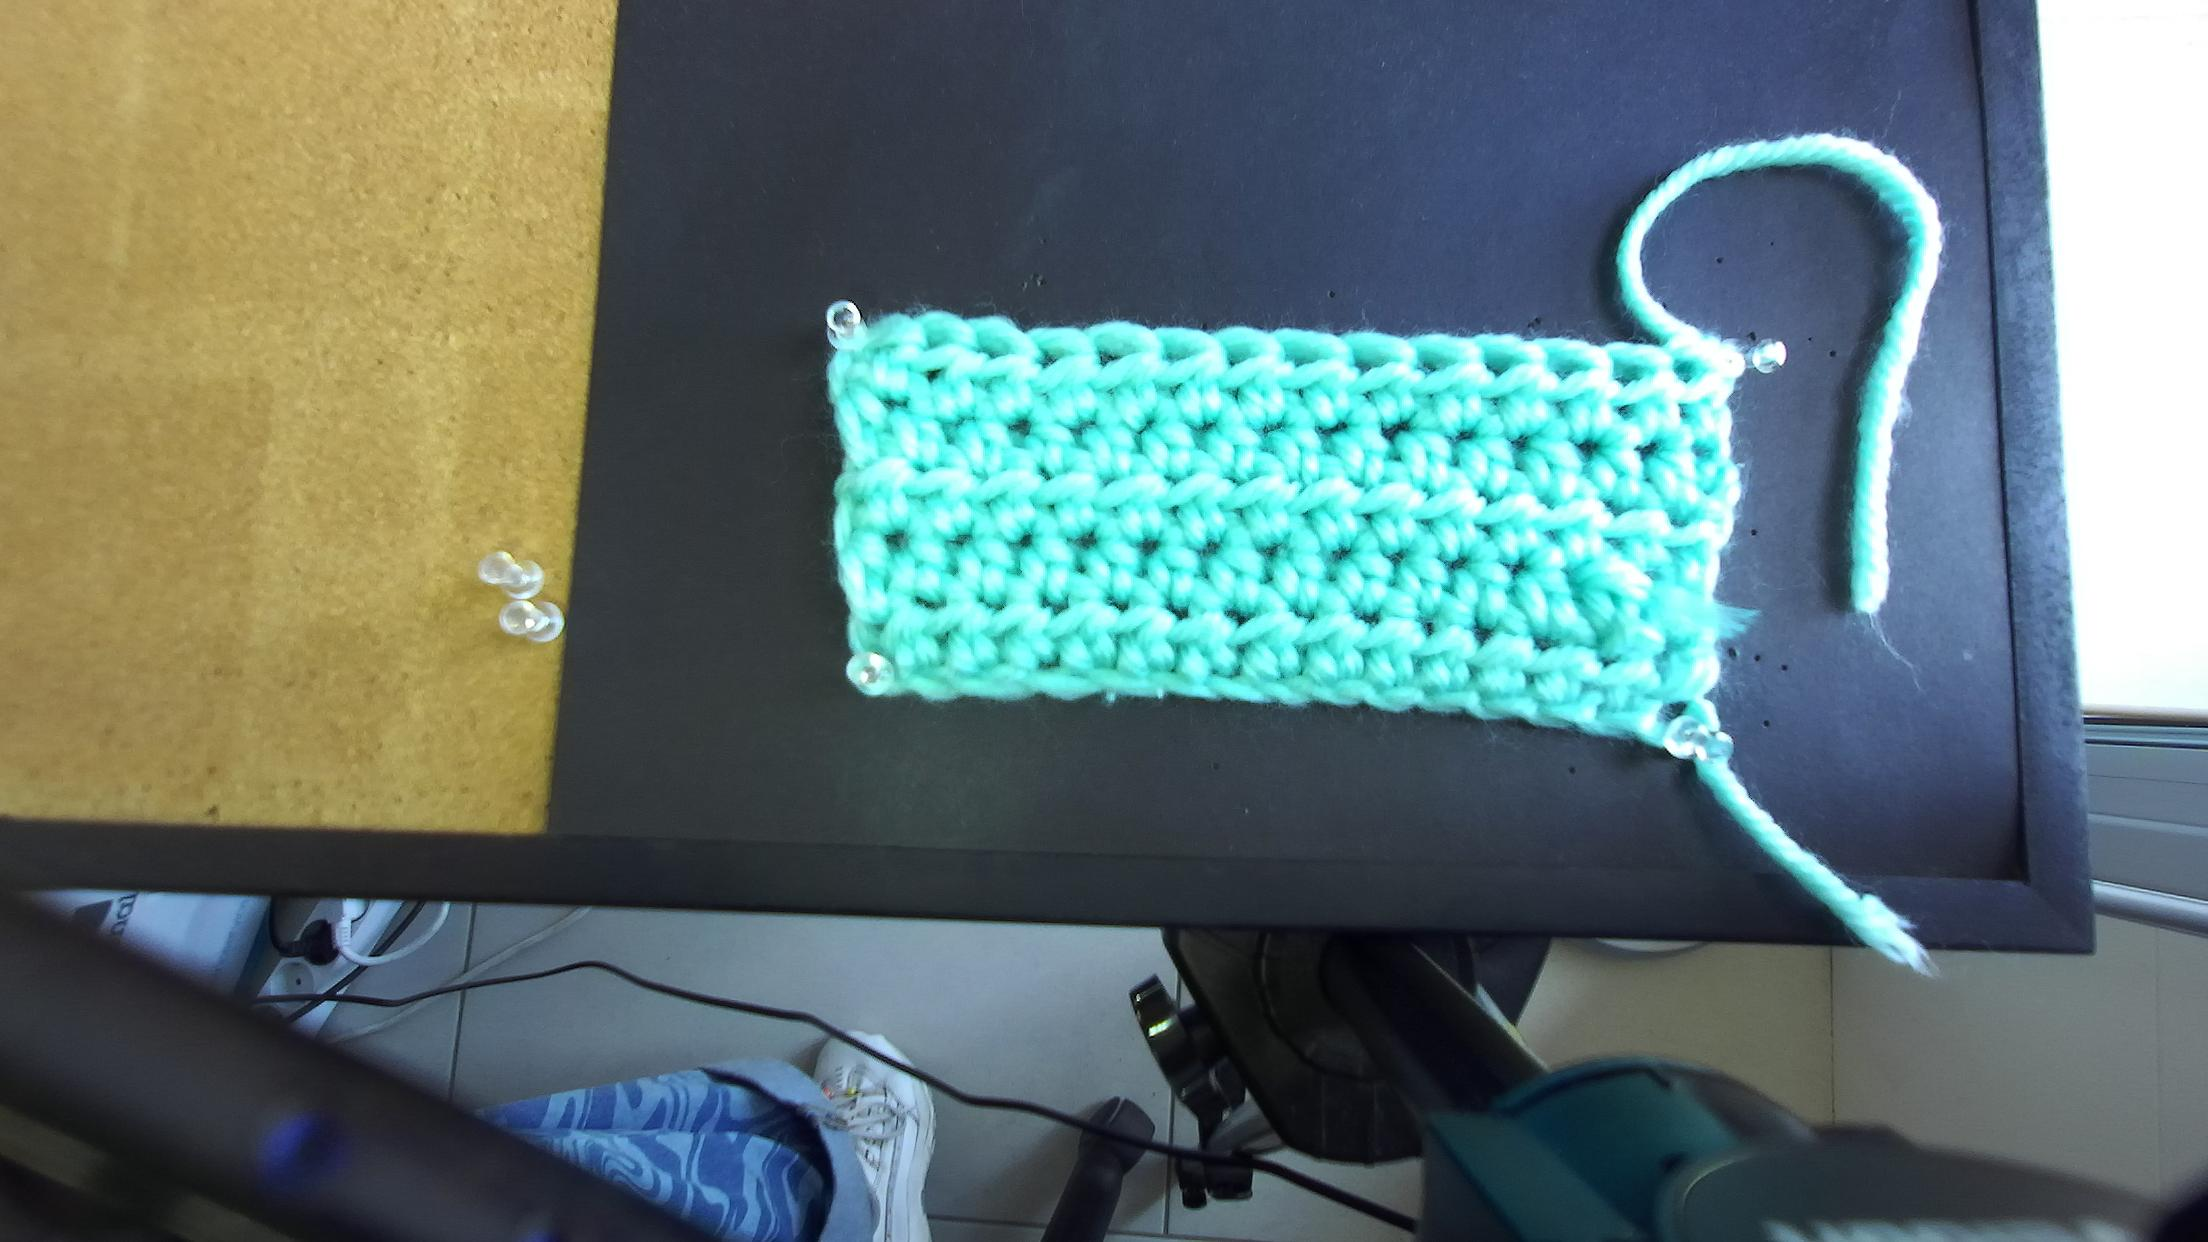hole: (969, 335, 1015, 361), (1096, 341, 1139, 369), (1612, 358, 1650, 388), (1034, 347, 1074, 369), (1283, 349, 1324, 369), (1413, 356, 1453, 376), (1354, 353, 1388, 376), (1673, 359, 1701, 385), (1483, 358, 1520, 378), (1550, 361, 1586, 381), (1224, 346, 1257, 367), (1162, 347, 1195, 364), (921, 334, 951, 352)
swatch: (823, 309, 1744, 758)
